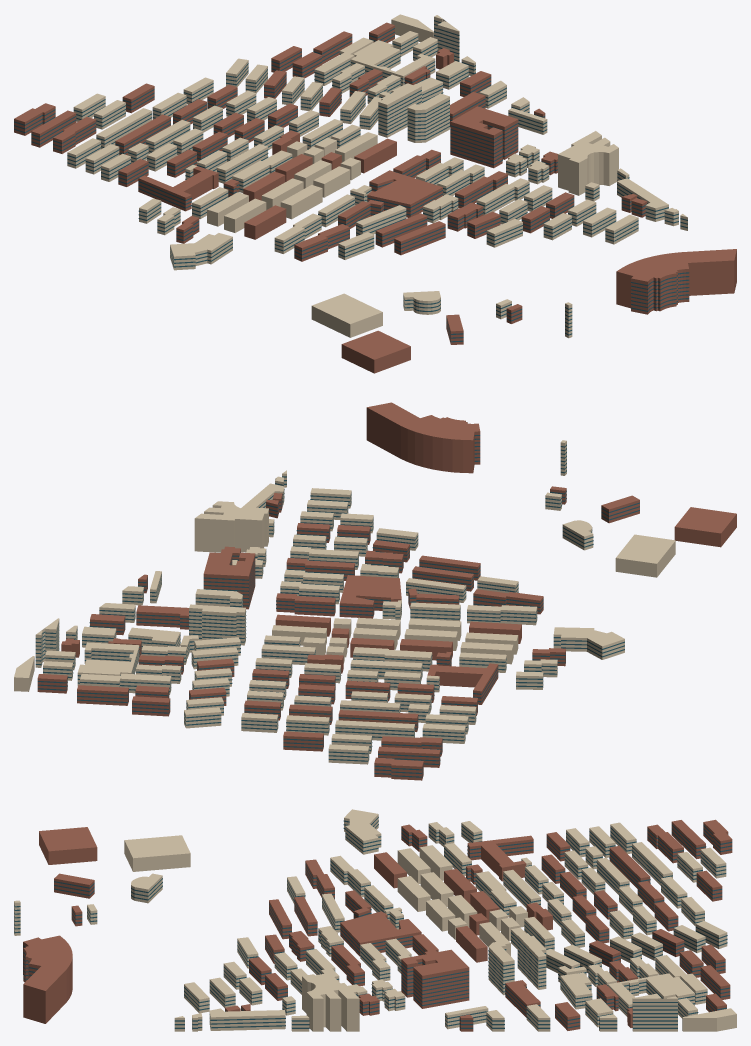
3 renders of one model, top to bottom at view 1: azimuth 30°, elevation 25°; view 2: azimuth 150°, elevation 25°; view 3: azimuth 270°, elevation 25°, orthographic.
Visible parts, largest first — view 1: osm-relation-13024719, osm-way-1427522169, osm-way-1427522185, osm-relation-13024719.001, osm-way-899205733, osm-way-899205735, osm-relation-19572042, osm-way-1427522312, osm-way-1427522324, osm-way-1427539585, osm-way-1427522323, osm-way-1427522226 (+54 smaller); view 2: osm-relation-13024719, osm-way-1427522185, osm-way-1427522169, osm-way-899205733, osm-way-899205735, osm-way-1427522323, osm-way-1427522312, osm-way-1427539585, osm-relation-19572042, osm-way-1427522227, osm-way-1427493083, osm-way-1427522296 (+44 smaller); view 3: osm-way-1427522169, osm-relation-13024719, osm-way-1427522185, osm-way-899205733, osm-way-899205735, osm-way-1427522312, osm-relation-19572042, osm-way-1427522314, osm-way-1427522188, osm-way-1427539585, osm-way-1427522323, osm-way-1427522324 (+102 smaller).
Part boxes in pixels (bbox=[...]): osm-relation-13024719: bbox=[616, 249, 736, 308]; osm-way-1427522169: bbox=[450, 106, 518, 168]; osm-way-1427522185: bbox=[558, 131, 618, 195]; osm-relation-13024719.001: bbox=[631, 261, 689, 314]; osm-way-899205733: bbox=[311, 293, 382, 337]; osm-way-899205735: bbox=[341, 330, 410, 373]; osm-relation-19572042: bbox=[367, 175, 442, 217]; osm-way-1427522312: bbox=[350, 40, 435, 85]; osm-way-1427522324: bbox=[407, 93, 449, 142]; osm-way-1427539585: bbox=[170, 233, 232, 270]; osm-way-1427522323: bbox=[378, 84, 421, 137]; osm-way-1427522226: bbox=[294, 224, 349, 261]; osm-relation-13024719: bbox=[366, 402, 474, 473]; osm-way-1427522185: bbox=[194, 501, 268, 552]; osm-way-1427522169: bbox=[203, 552, 255, 609]; osm-way-899205733: bbox=[615, 534, 675, 577]; osm-way-899205735: bbox=[674, 507, 736, 547]; osm-way-1427522323: bbox=[189, 604, 246, 645]; osm-way-1427522312: bbox=[77, 642, 139, 685]; osm-way-1427539585: bbox=[553, 627, 624, 659]; osm-relation-19572042: bbox=[342, 575, 401, 610]; osm-way-1427522227: bbox=[467, 605, 537, 625]; osm-way-1427493083: bbox=[335, 720, 414, 740]; osm-way-1427522296: bbox=[80, 673, 171, 694]; osm-way-1427522169: bbox=[401, 949, 469, 1008]; osm-relation-13024719: bbox=[23, 935, 72, 1023]; osm-way-1427522185: bbox=[302, 973, 359, 1031]; osm-way-899205733: bbox=[124, 835, 190, 871]; osm-way-899205735: bbox=[39, 827, 97, 864]; osm-way-1427522312: bbox=[608, 973, 694, 1016]; osm-relation-19572042: bbox=[340, 911, 403, 956]; osm-way-1427522314: bbox=[632, 993, 677, 1031]; osm-way-1427522188: bbox=[209, 1008, 285, 1030]; osm-way-1427539585: bbox=[343, 809, 381, 854]; osm-way-1427522323: bbox=[517, 933, 546, 989]; osm-way-1427522324: bbox=[488, 941, 514, 995].
Bounding box in the file's own units: 486 × 36 × 713.
